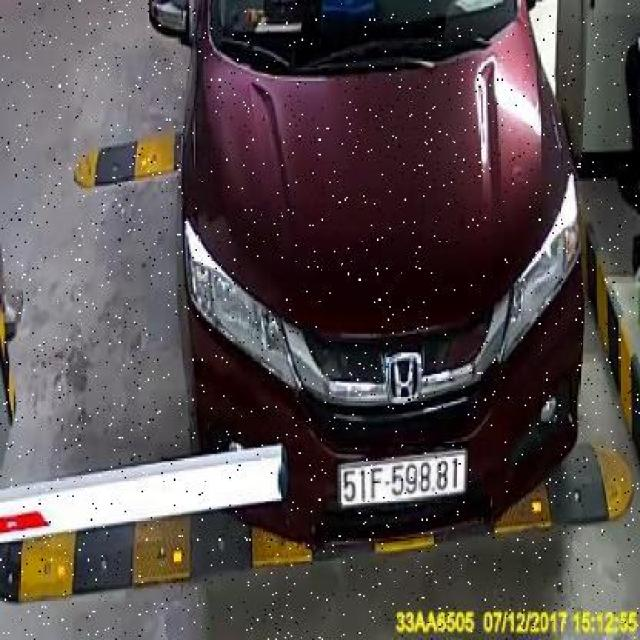number_plate: (334, 443, 468, 503)
